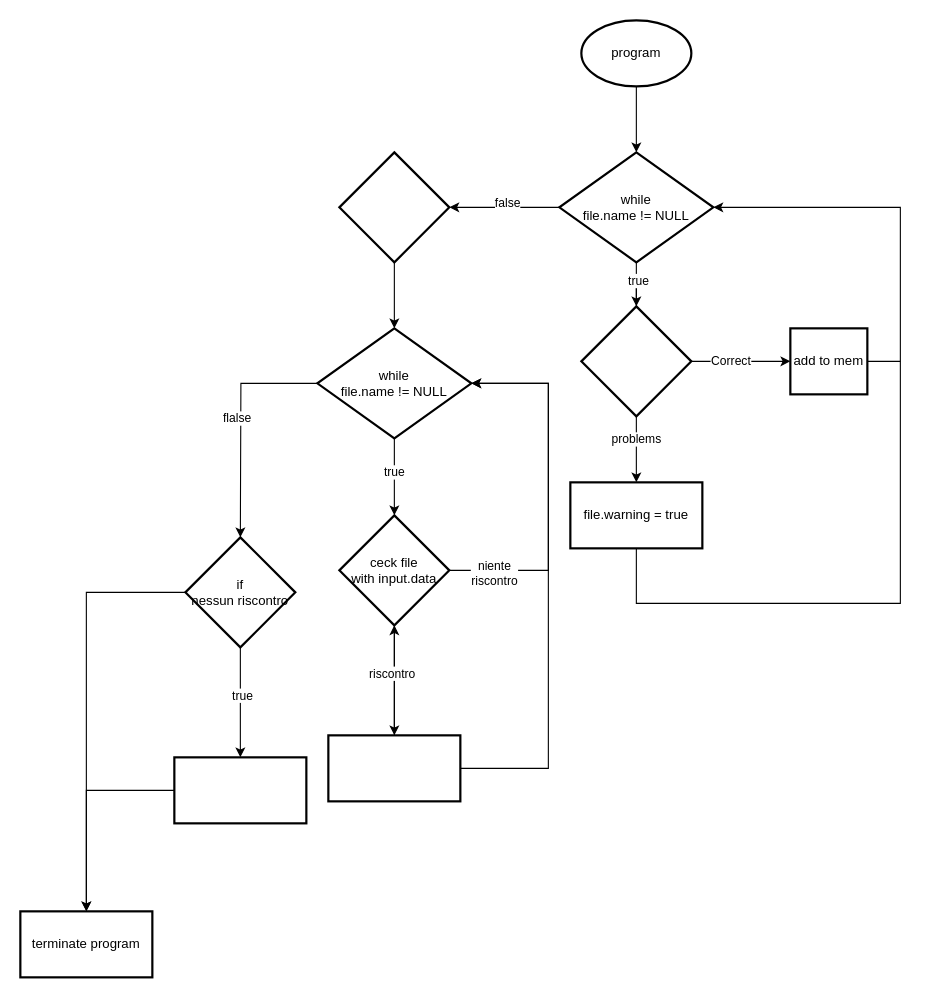
This 928x997 diagram has some shape labels left out. Here are the shapes that lost their labels. From the top down, the centre of each, then its label:
At pixel 394 207: "if input.data == command".
At pixel 636 361: "parse line".
At pixel 394 768: "print file.name && file.author".
At pixel 240 790: "print error".
